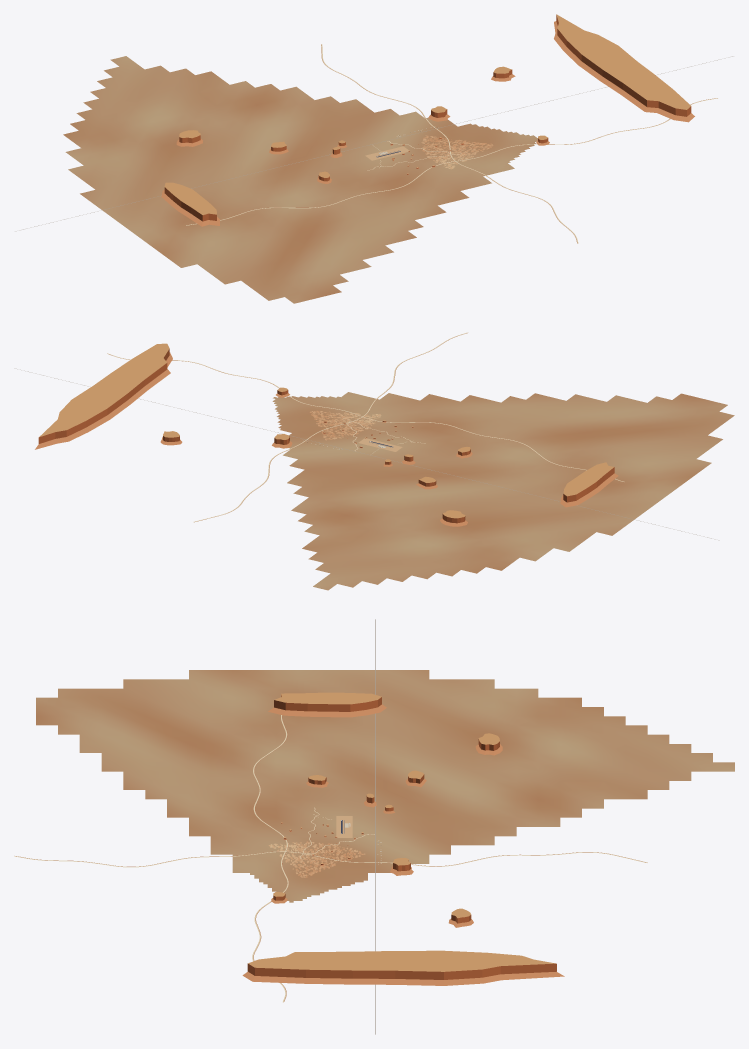
The model's file is land.glb.
3 renders of one model, top to bottom at view 1: azimuth 30°, elevation 25°; view 2: azimuth 150°, elevation 25°; view 3: azimuth 270°, elevation 25°, orthographic. The views are drawn at different scales.
Visible parts, largest first — view 1: decal-floor, buildings, decal-wash-bed, decal-floor-grain; view 2: decal-floor, buildings, decal-wash-bed, decal-floor-grain; view 3: decal-floor, buildings, decal-floor-grain, decal-wash-bed.
Boxes of the visible parts, x1,y1,x2,y2 form: decal-floor: (63,56,537,303); buildings: (161,14,694,226); decal-wash-bed: (186,44,717,243); decal-floor-grain: (421,135,493,169); decal-floor: (272,392,734,590); buildings: (35,343,618,526); decal-wash-bed: (107,332,624,522); decal-floor-grain: (309,410,381,440); decal-floor: (36,670,734,902); buildings: (242,692,564,985); decal-floor-grain: (268,841,365,877); decal-wash-bed: (14,715,647,1002).
Size of the model in its own units: 90000 by 1252 by 66022.
